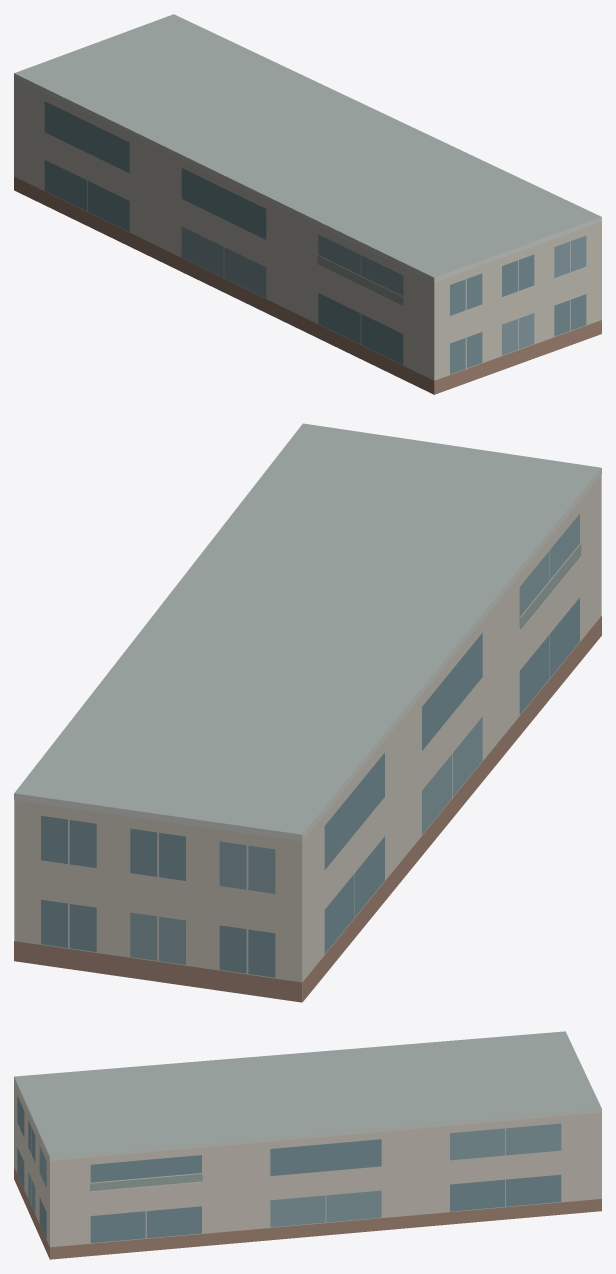
Rendered from survey-upis-32811589.glb.
3 views of the same model, one above another, from view 1: azimuth 30°, elevation 25°; view 2: azimuth 150°, elevation 25°; view 3: azimuth 270°, elevation 25° (orthographic). The views are drawn at different scales.
Parts seen in each view (by area): view 1: survey-upis-32811589.tmp; view 2: survey-upis-32811589.tmp; view 3: survey-upis-32811589.tmp.
Boxes of the visible parts, x1,y1,x2,y2 form: survey-upis-32811589.tmp: [14, 14, 601, 394]; survey-upis-32811589.tmp: [14, 423, 601, 1002]; survey-upis-32811589.tmp: [14, 1031, 601, 1259].
Size of the model in its own units: 16.03 by 6.1 by 31.68.
